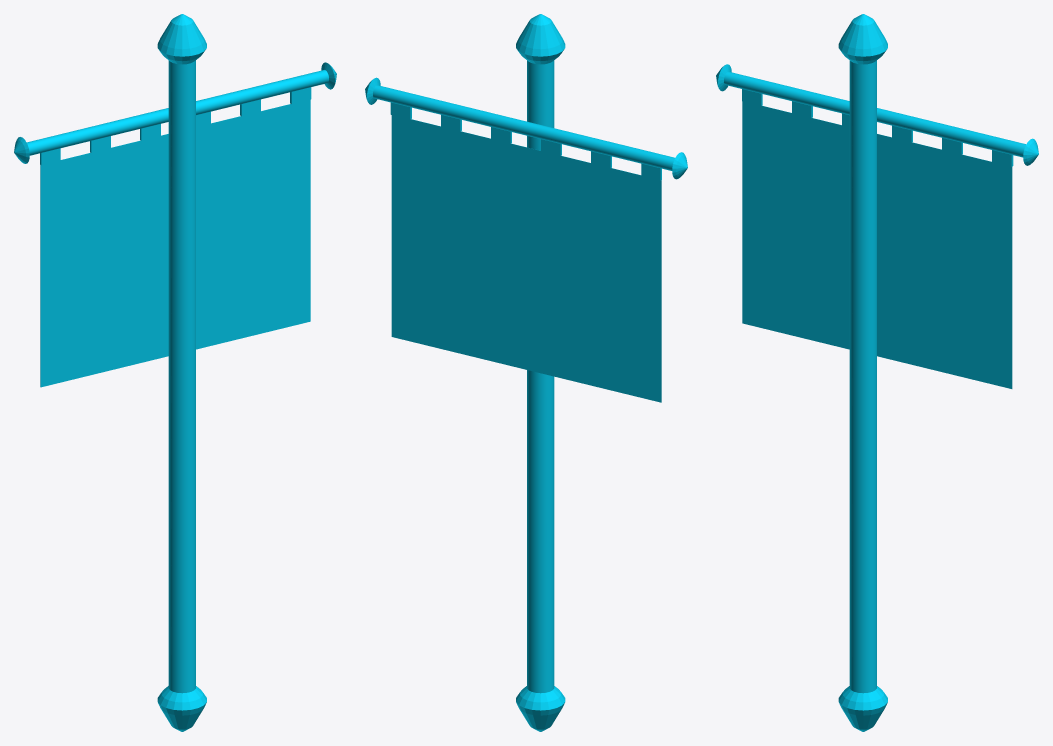
Rendered from BannerMain.fbx.
3 views of the same model, side by side, from view 1: azimuth 30°, elevation 25°; view 2: azimuth 150°, elevation 25°; view 3: azimuth 330°, elevation 25° (orthographic).
Visible parts, largest first — view 1: Cloth_low, BannerStand_low, BannerHolder_low; view 2: Cloth_low, BannerStand_low, BannerHolder_low; view 3: Cloth_low, BannerStand_low, BannerHolder_low.
Part boxes in pixels (x1,y1,x2,y2): Cloth_low: [40, 99, 310, 387]; BannerStand_low: [157, 14, 206, 731]; BannerHolder_low: [14, 62, 336, 165]; Cloth_low: [391, 115, 661, 402]; BannerStand_low: [516, 14, 565, 731]; BannerHolder_low: [365, 77, 687, 180]; Cloth_low: [742, 101, 1012, 388]; BannerStand_low: [838, 14, 887, 731]; BannerHolder_low: [716, 64, 1038, 166].
Size of the model in its own units: 2680 by 5700 by 429.
